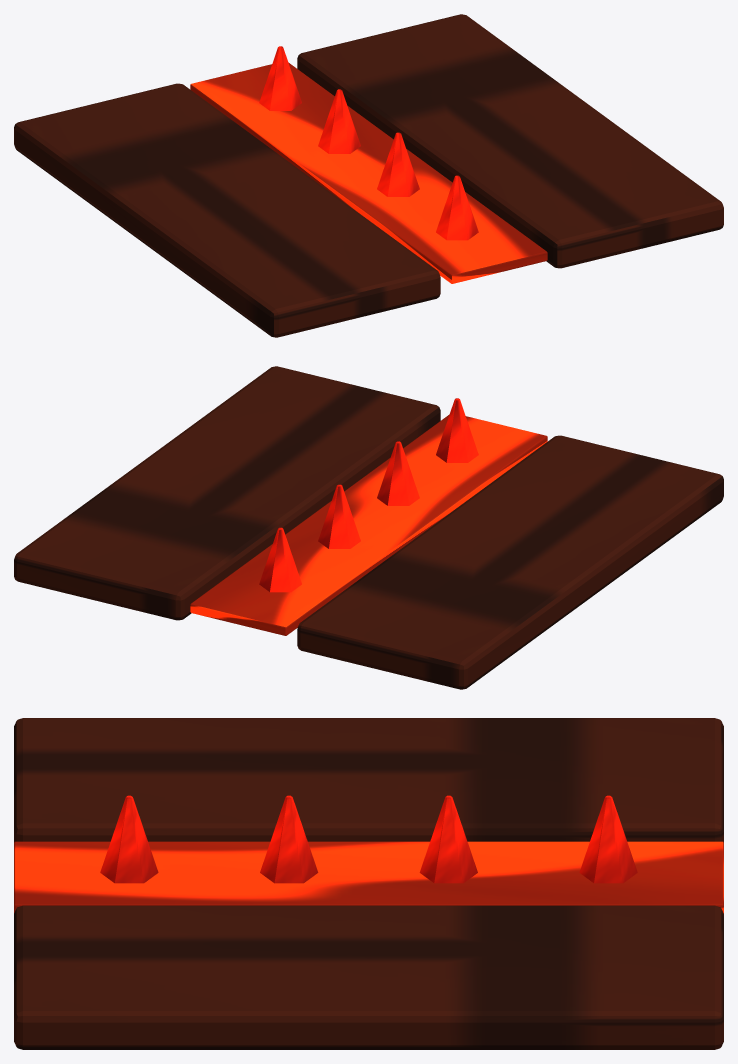
The model's file is SM_FC_MagmaFissure_400.fbx.
The picture shows the model from 3 angles, top to bottom: view 1: azimuth 30°, elevation 25°; view 2: azimuth 150°, elevation 25°; view 3: azimuth 270°, elevation 25°; orthographic projection. The views are drawn at different scales.
Visible parts, largest first — view 1: SM_FC_MagmaFissure_400; view 2: SM_FC_MagmaFissure_400; view 3: SM_FC_MagmaFissure_400.
Boxes of the visible parts, left/top/right/bottom form: SM_FC_MagmaFissure_400: left=14, top=14, right=723, bottom=337; SM_FC_MagmaFissure_400: left=14, top=366, right=723, bottom=689; SM_FC_MagmaFissure_400: left=14, top=718, right=723, bottom=1049.
Size of what is drawn, in the model's own units: 4 by 0.66 by 4.
